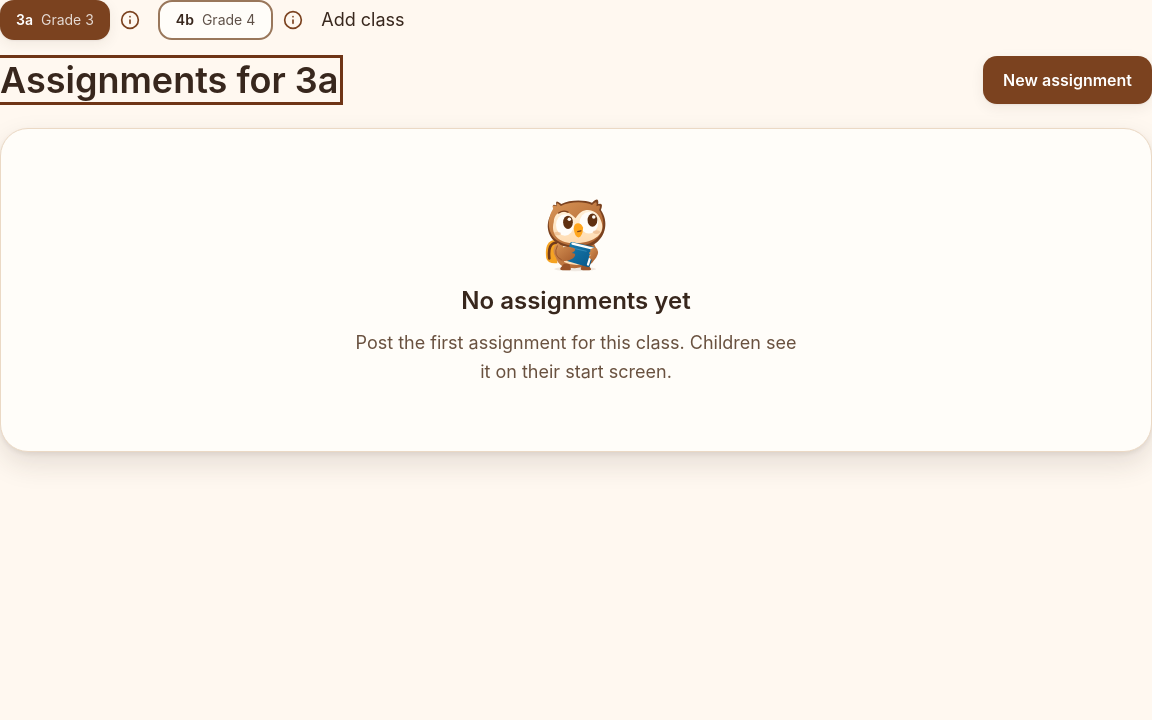
teacher assignment workspace › keeps the input and marks the field when the server refuses the assignment
Click the button "New assignment".
click(1068, 80)  # box [983, 56, 1151, 104]
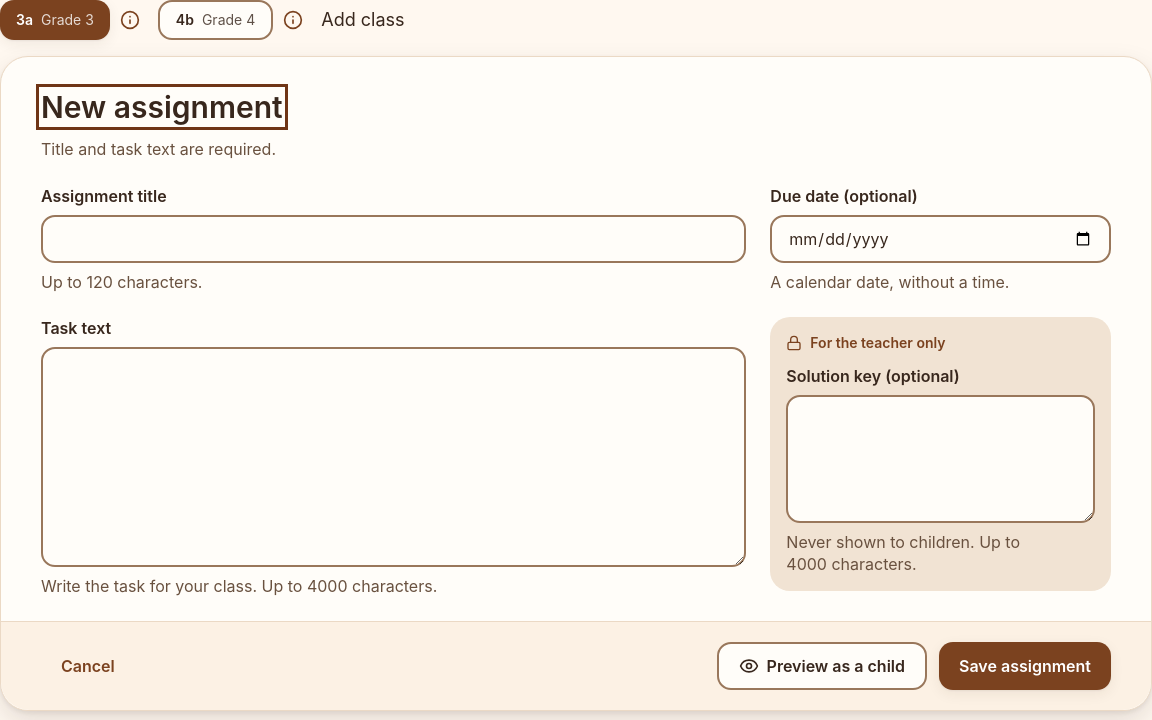
Type "Title" into the field labelled "Assignment title".
click(394, 239); type("Title")  # box [41, 215, 746, 263]
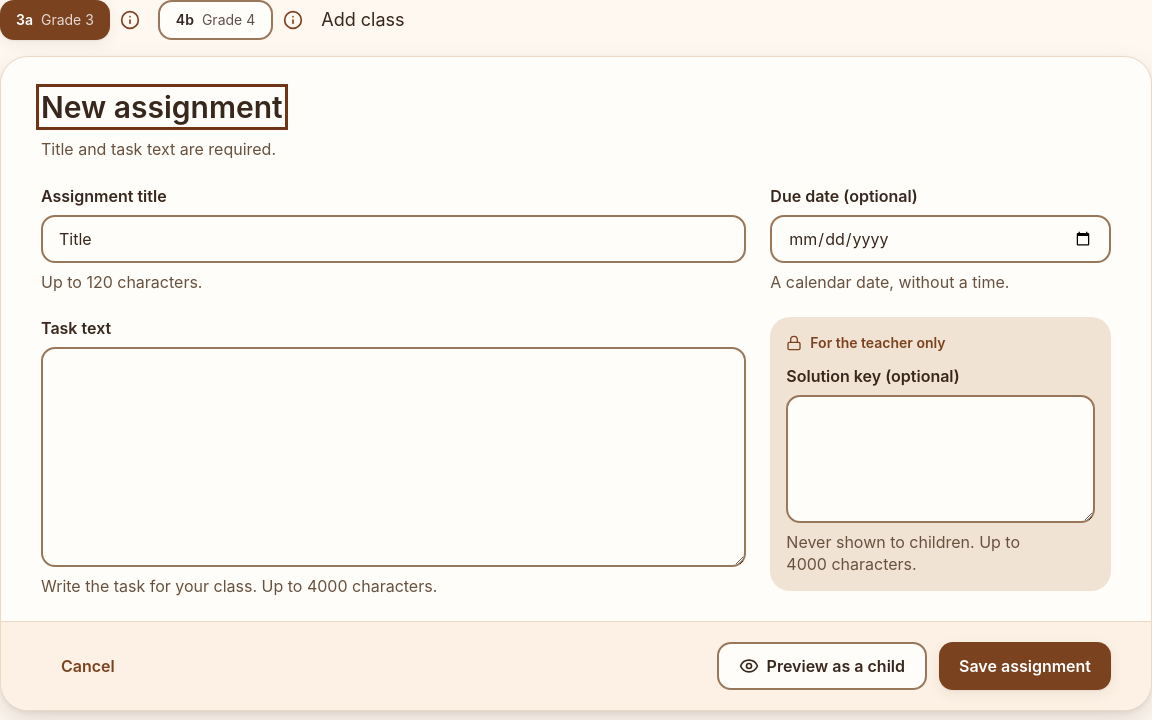
Type "Task" into the text box labelled "Task text".
click(394, 457); type("Task")  # box [41, 347, 746, 567]
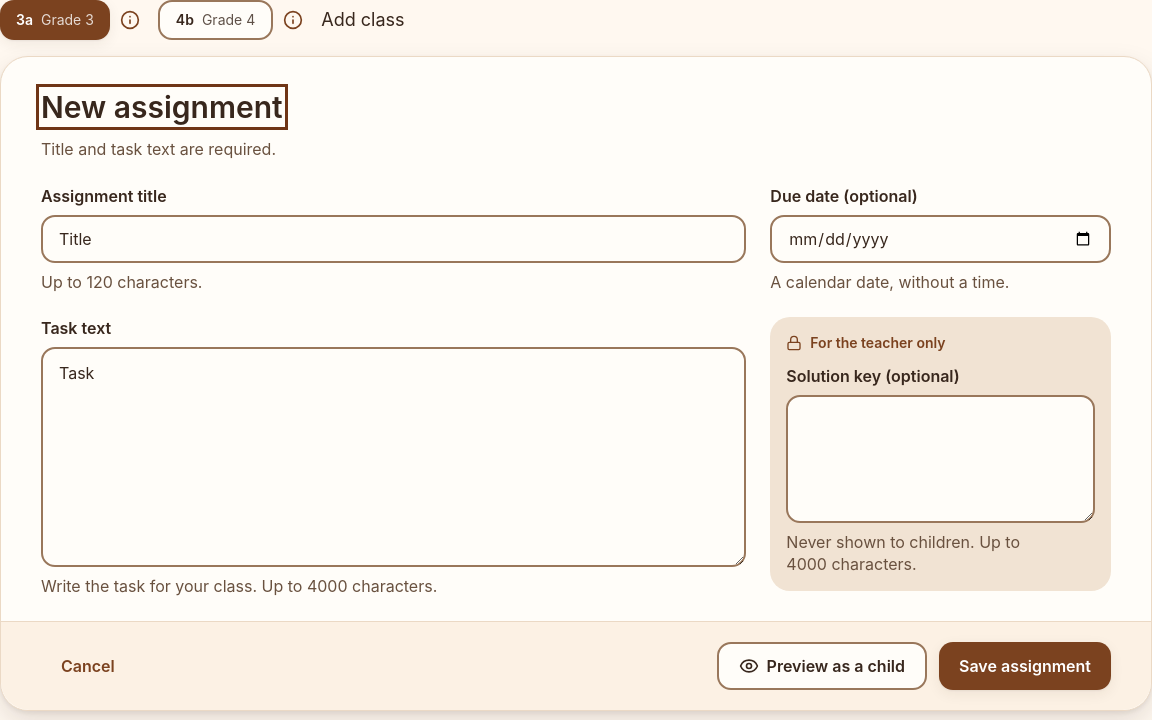
Click the button "Save assignment".
click(1025, 666)  # box [939, 642, 1111, 690]
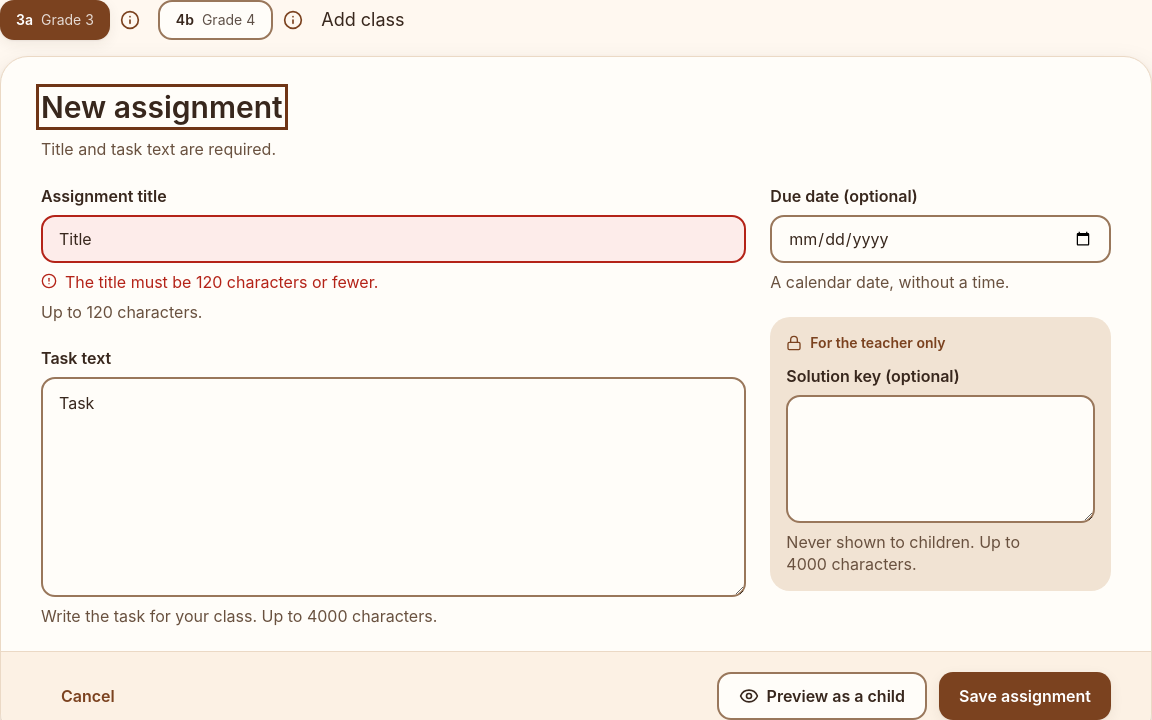
Now the text "The title must be 120 characters or fewer." is shown, box [65, 271, 378, 293]
